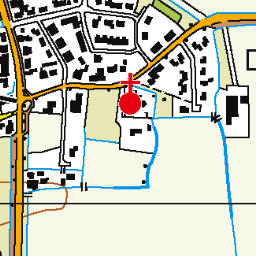church: (114, 70, 145, 118)
